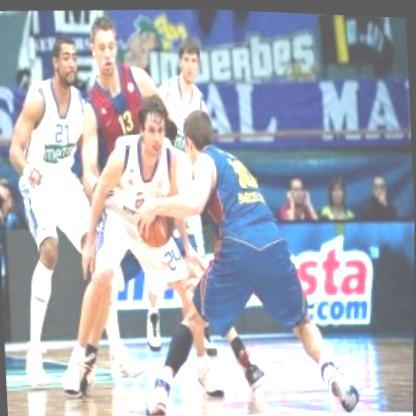basketball: (131, 197, 179, 251)
